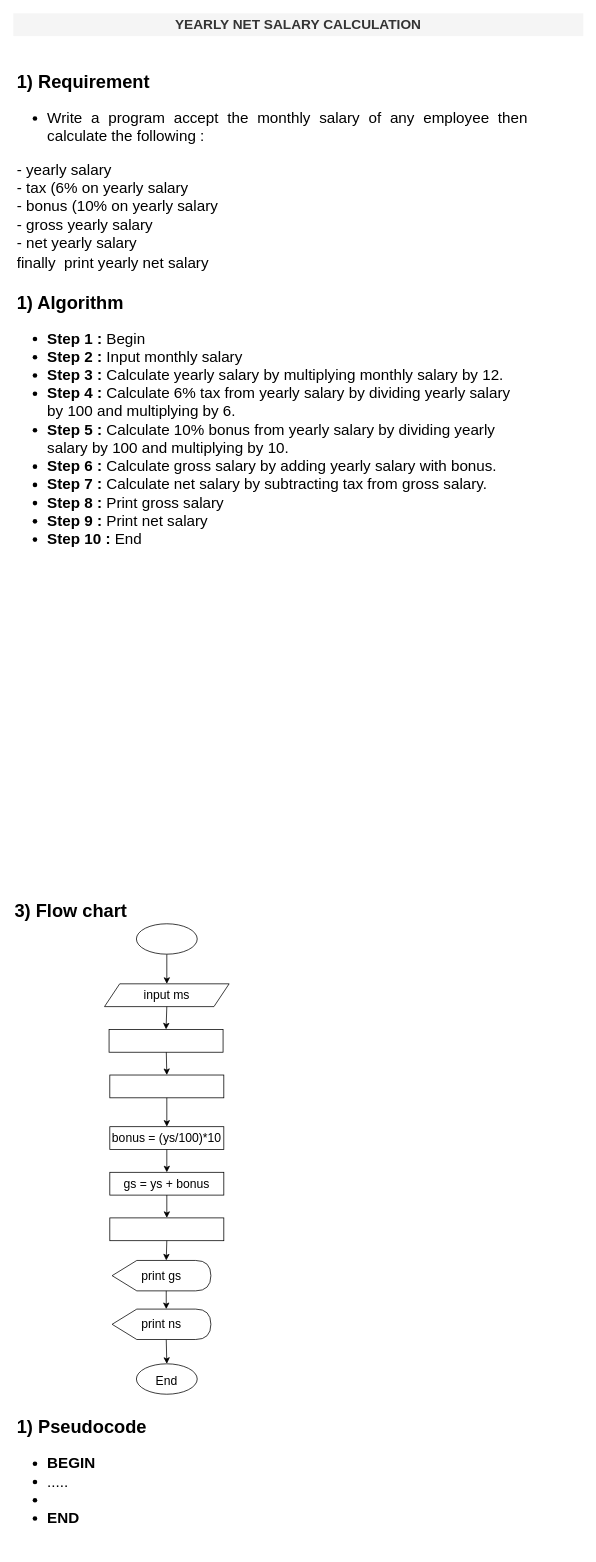
Image size: 596x1562. Some labels were removed from this diagram. Each missing label, with the centre of its shape:
"Begin" goes at [166,938].
"ns = gs - tax" goes at [166,1229].
"tax = (ys/100)*6" goes at [166,1086].
"ys = ms * 12" goes at [165,1040].
